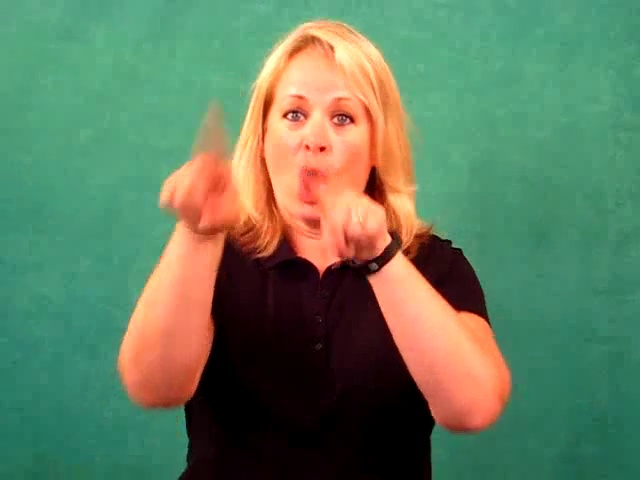go: (149, 98, 401, 282)
